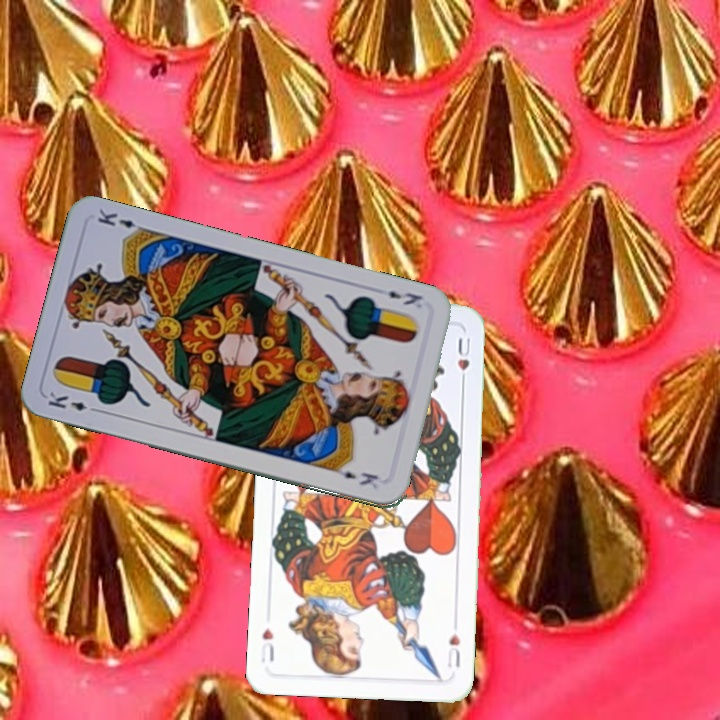EK: (44, 388, 102, 415), (384, 287, 426, 308)
HU: (443, 629, 463, 671)
